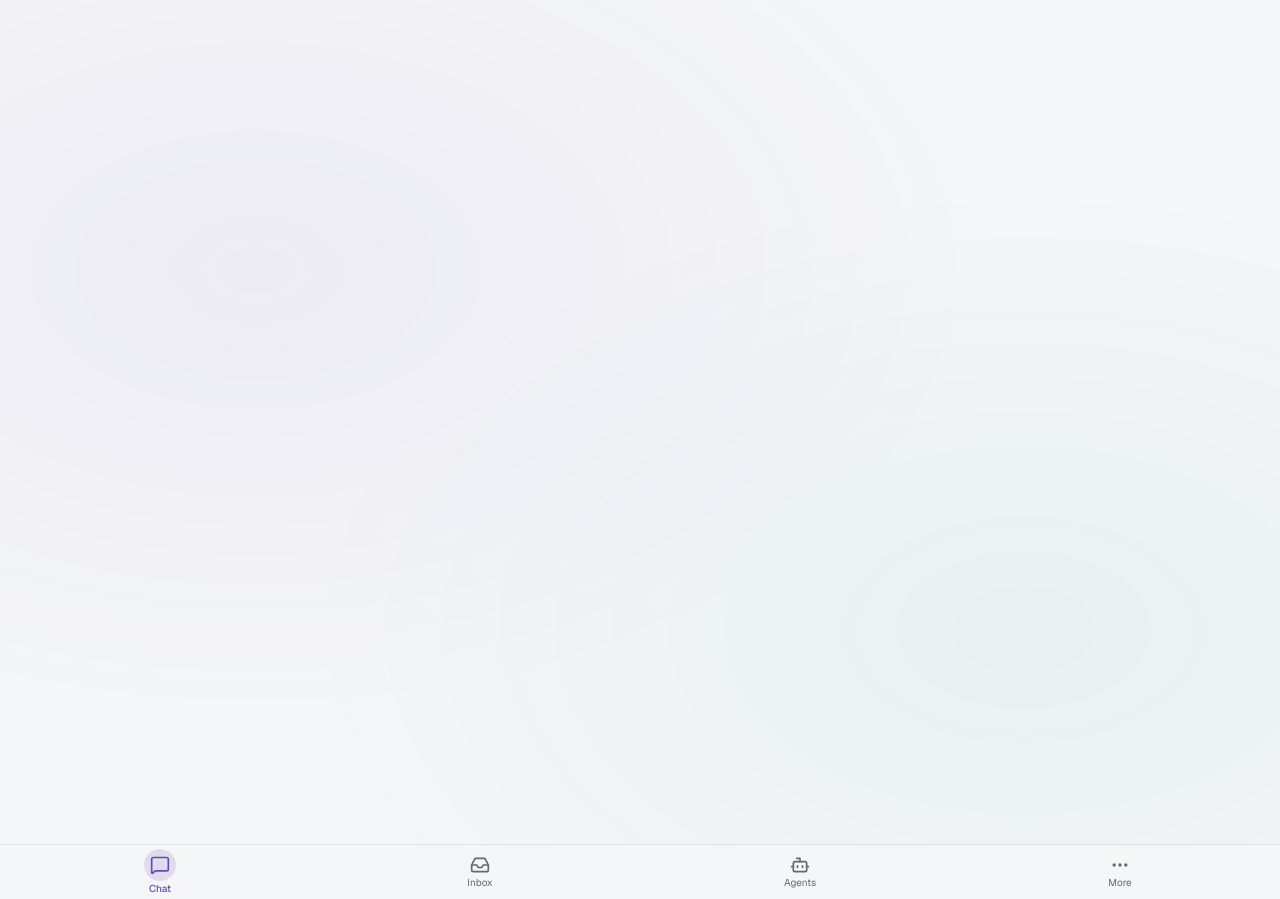
it: MobileTabBar › opens a sheet of everything else behind More
This screenshot has width=1280, height=899.
Click the button with test id "mobile-tab-more" at (1120, 872), box x1=1098 y1=850 x2=1142 y2=894
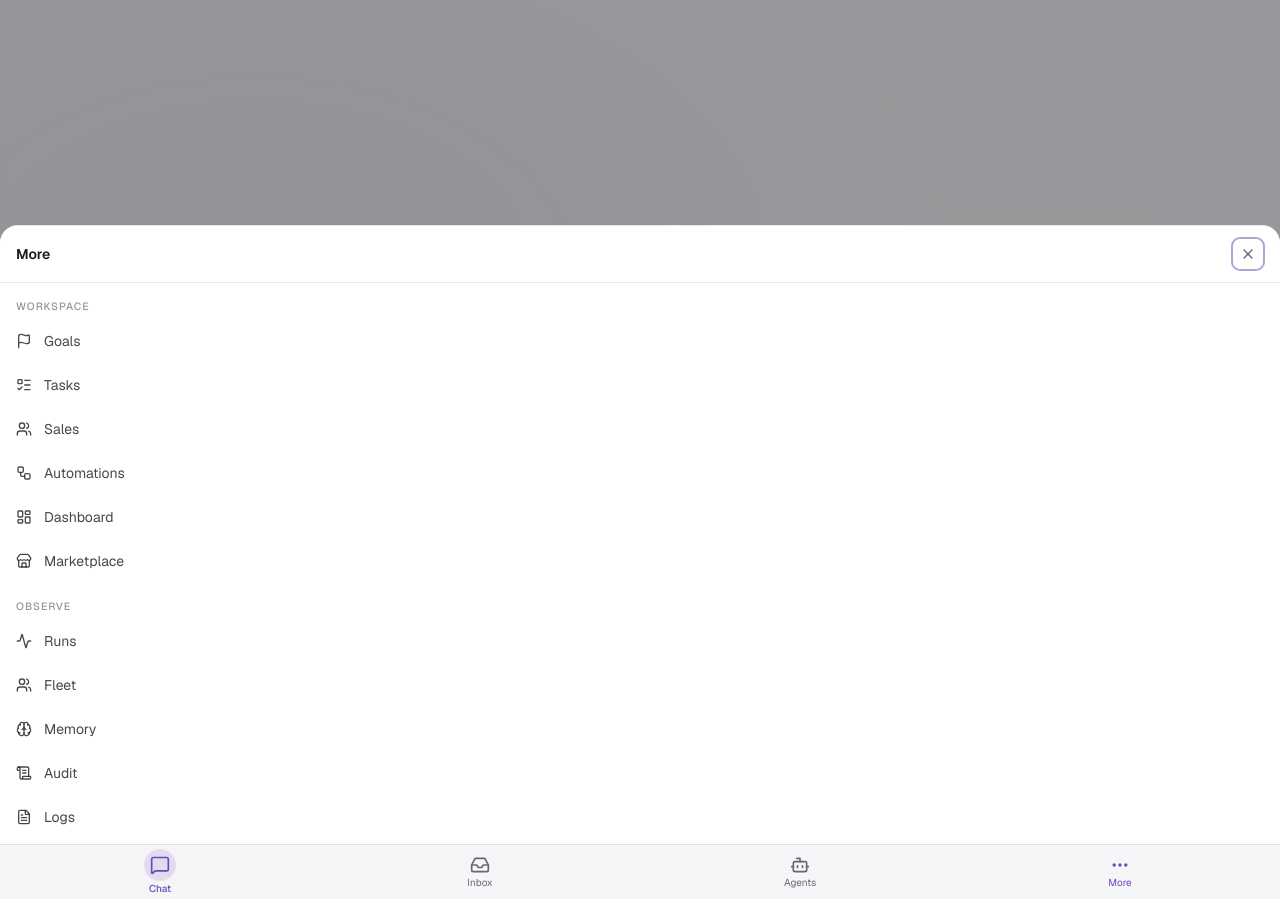
Now the button with test id "more-nav-dashboard" is shown, box x1=8 y1=495 x2=1272 y2=539
Now the button with test id "more-nav-runs" is shown, box x1=8 y1=618 x2=1272 y2=662
Now the text "Observe" is shown, box x1=16 y1=599 x2=71 y2=613
